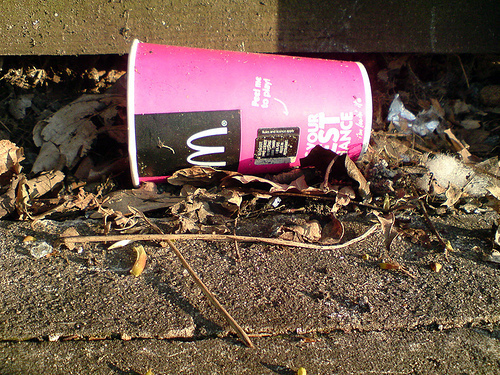litter: (126, 37, 370, 188)
